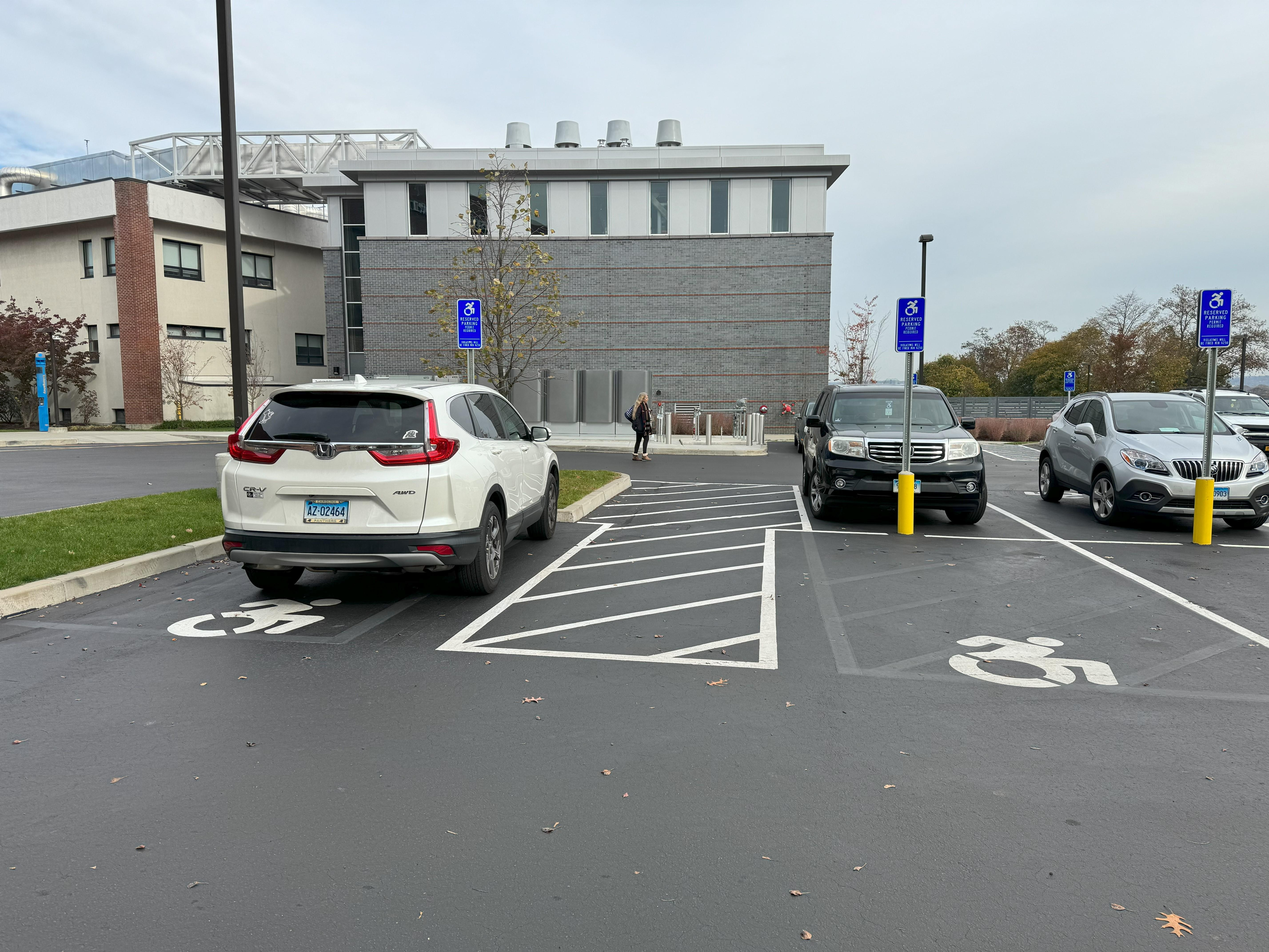empty: (782, 556, 1221, 709)
occupied: (165, 349, 578, 616), (1049, 374, 1269, 554), (771, 372, 1020, 515)
